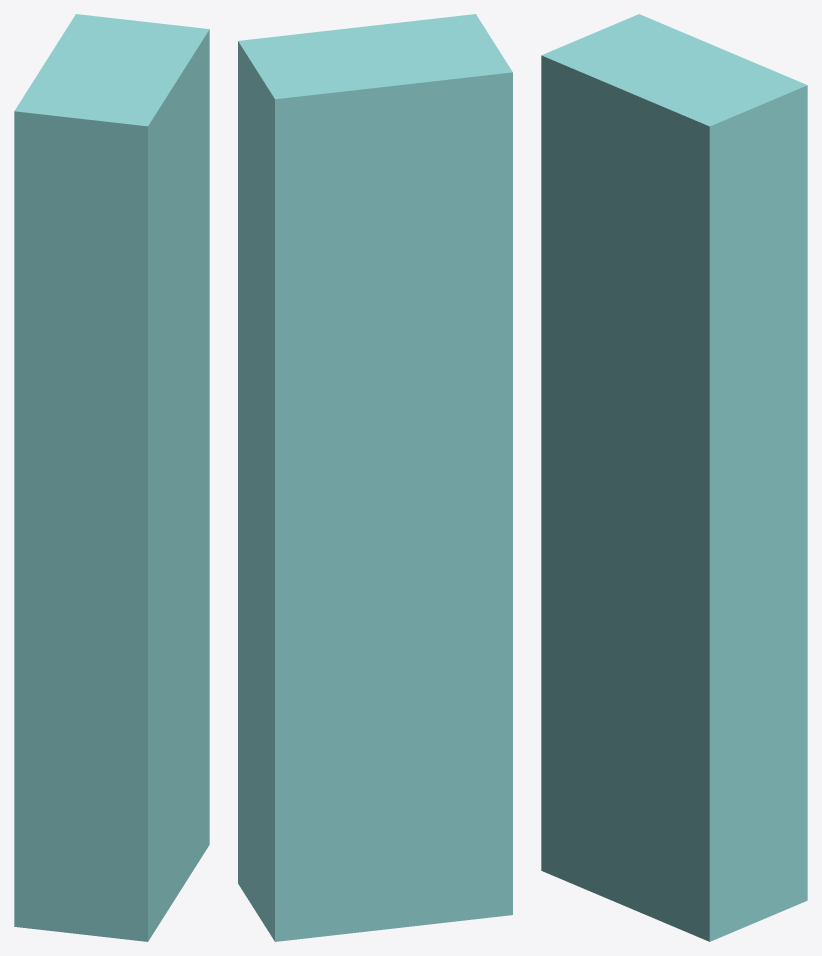
The model's file is FYP_asset_diningRoom_clock.fbx.
The picture shows the model from 3 angles, left to right: view 1: azimuth 30°, elevation 25°; view 2: azimuth 150°, elevation 25°; view 3: azimuth 270°, elevation 25°; orthographic projection. The views are drawn at different scales.
Visible parts, largest first — view 1: clock; view 2: clock; view 3: clock.
Boxes of the visible parts, x1=… form: clock: x1=14, y1=14, x2=209, y2=941; clock: x1=238, y1=14, x2=512, y2=941; clock: x1=541, y1=14, x2=807, y2=941.
Size of the model in its own units: 24.58 by 83.02 by 24.58.
